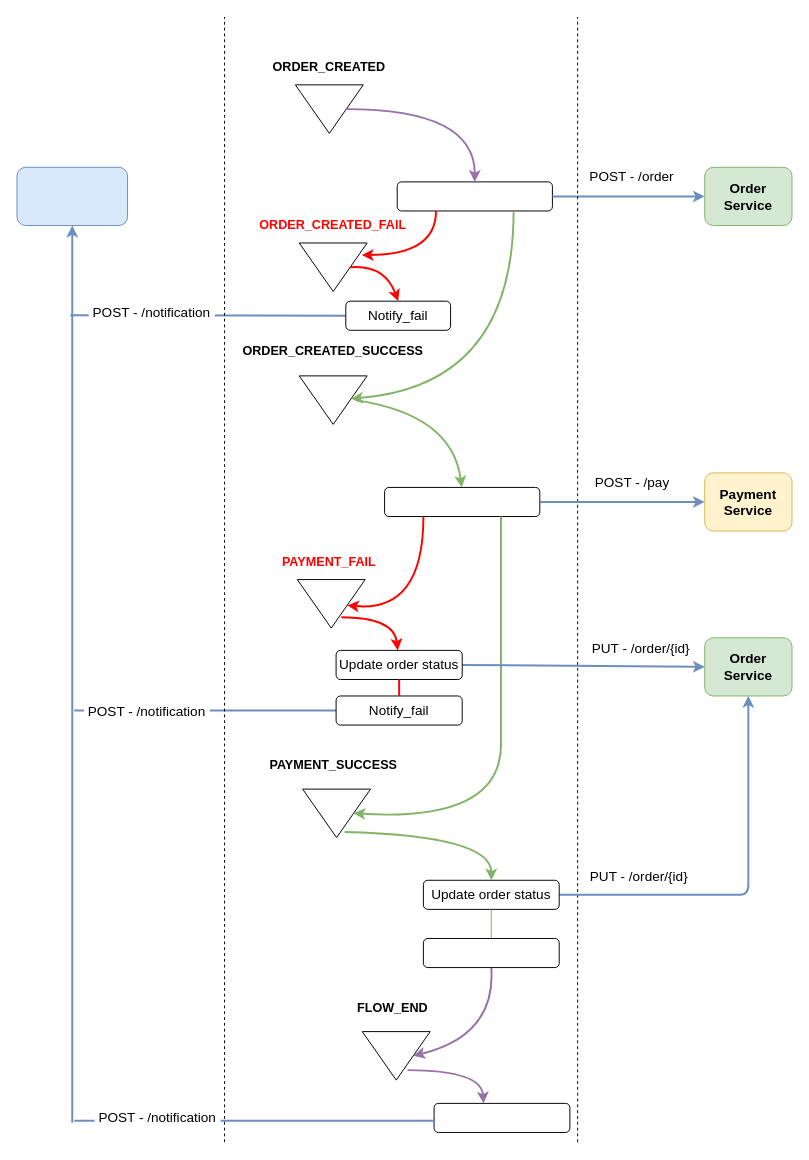
This 809x1160 diagram has some shape labels left out. Here are the shapes that lost their labels. From the top down, the centre of each, then its label:
At point (72, 196): "Notification Service".
At point (474, 196): "Create Order".
At point (462, 501): "Make payment".
At point (490, 953): "Create voucher".
At point (501, 1117): "Send Ticket".
